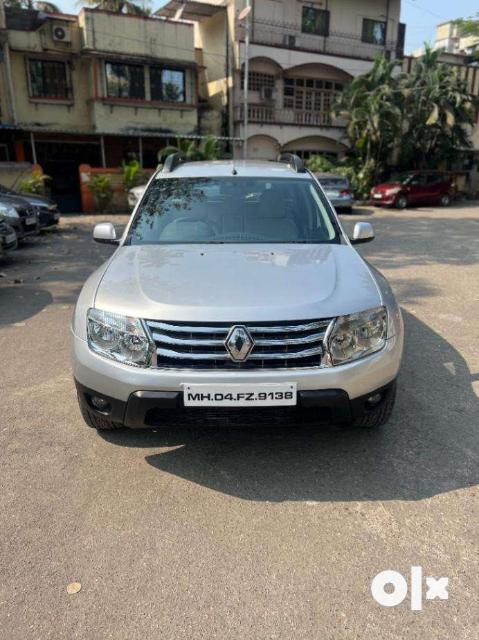Indian_Number_Plate: (184, 384, 296, 406)
